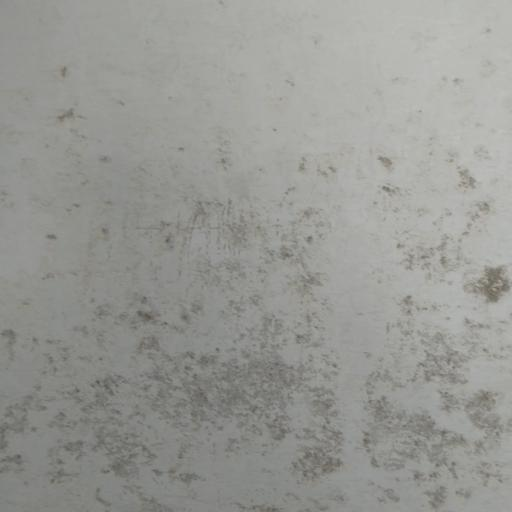peeling: (37, 120, 512, 512)
